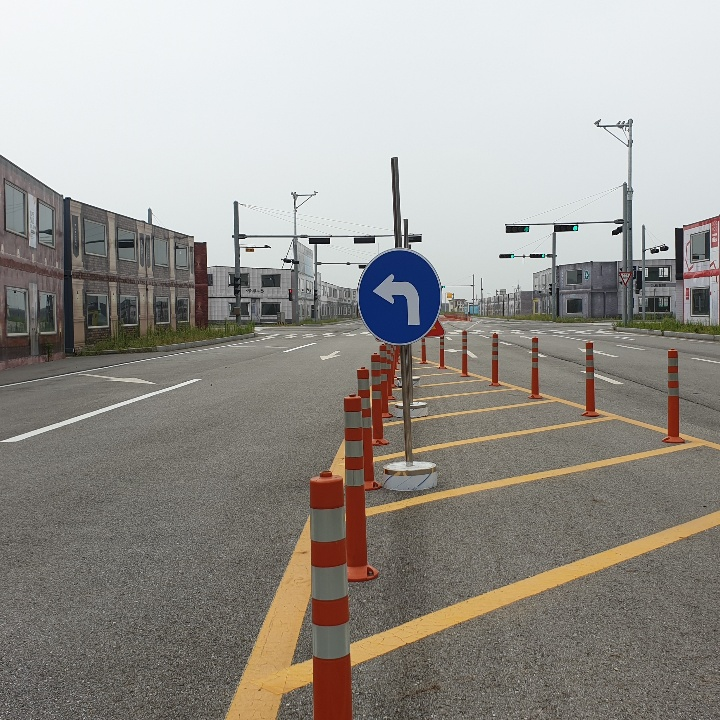left: (369, 265, 426, 336)
